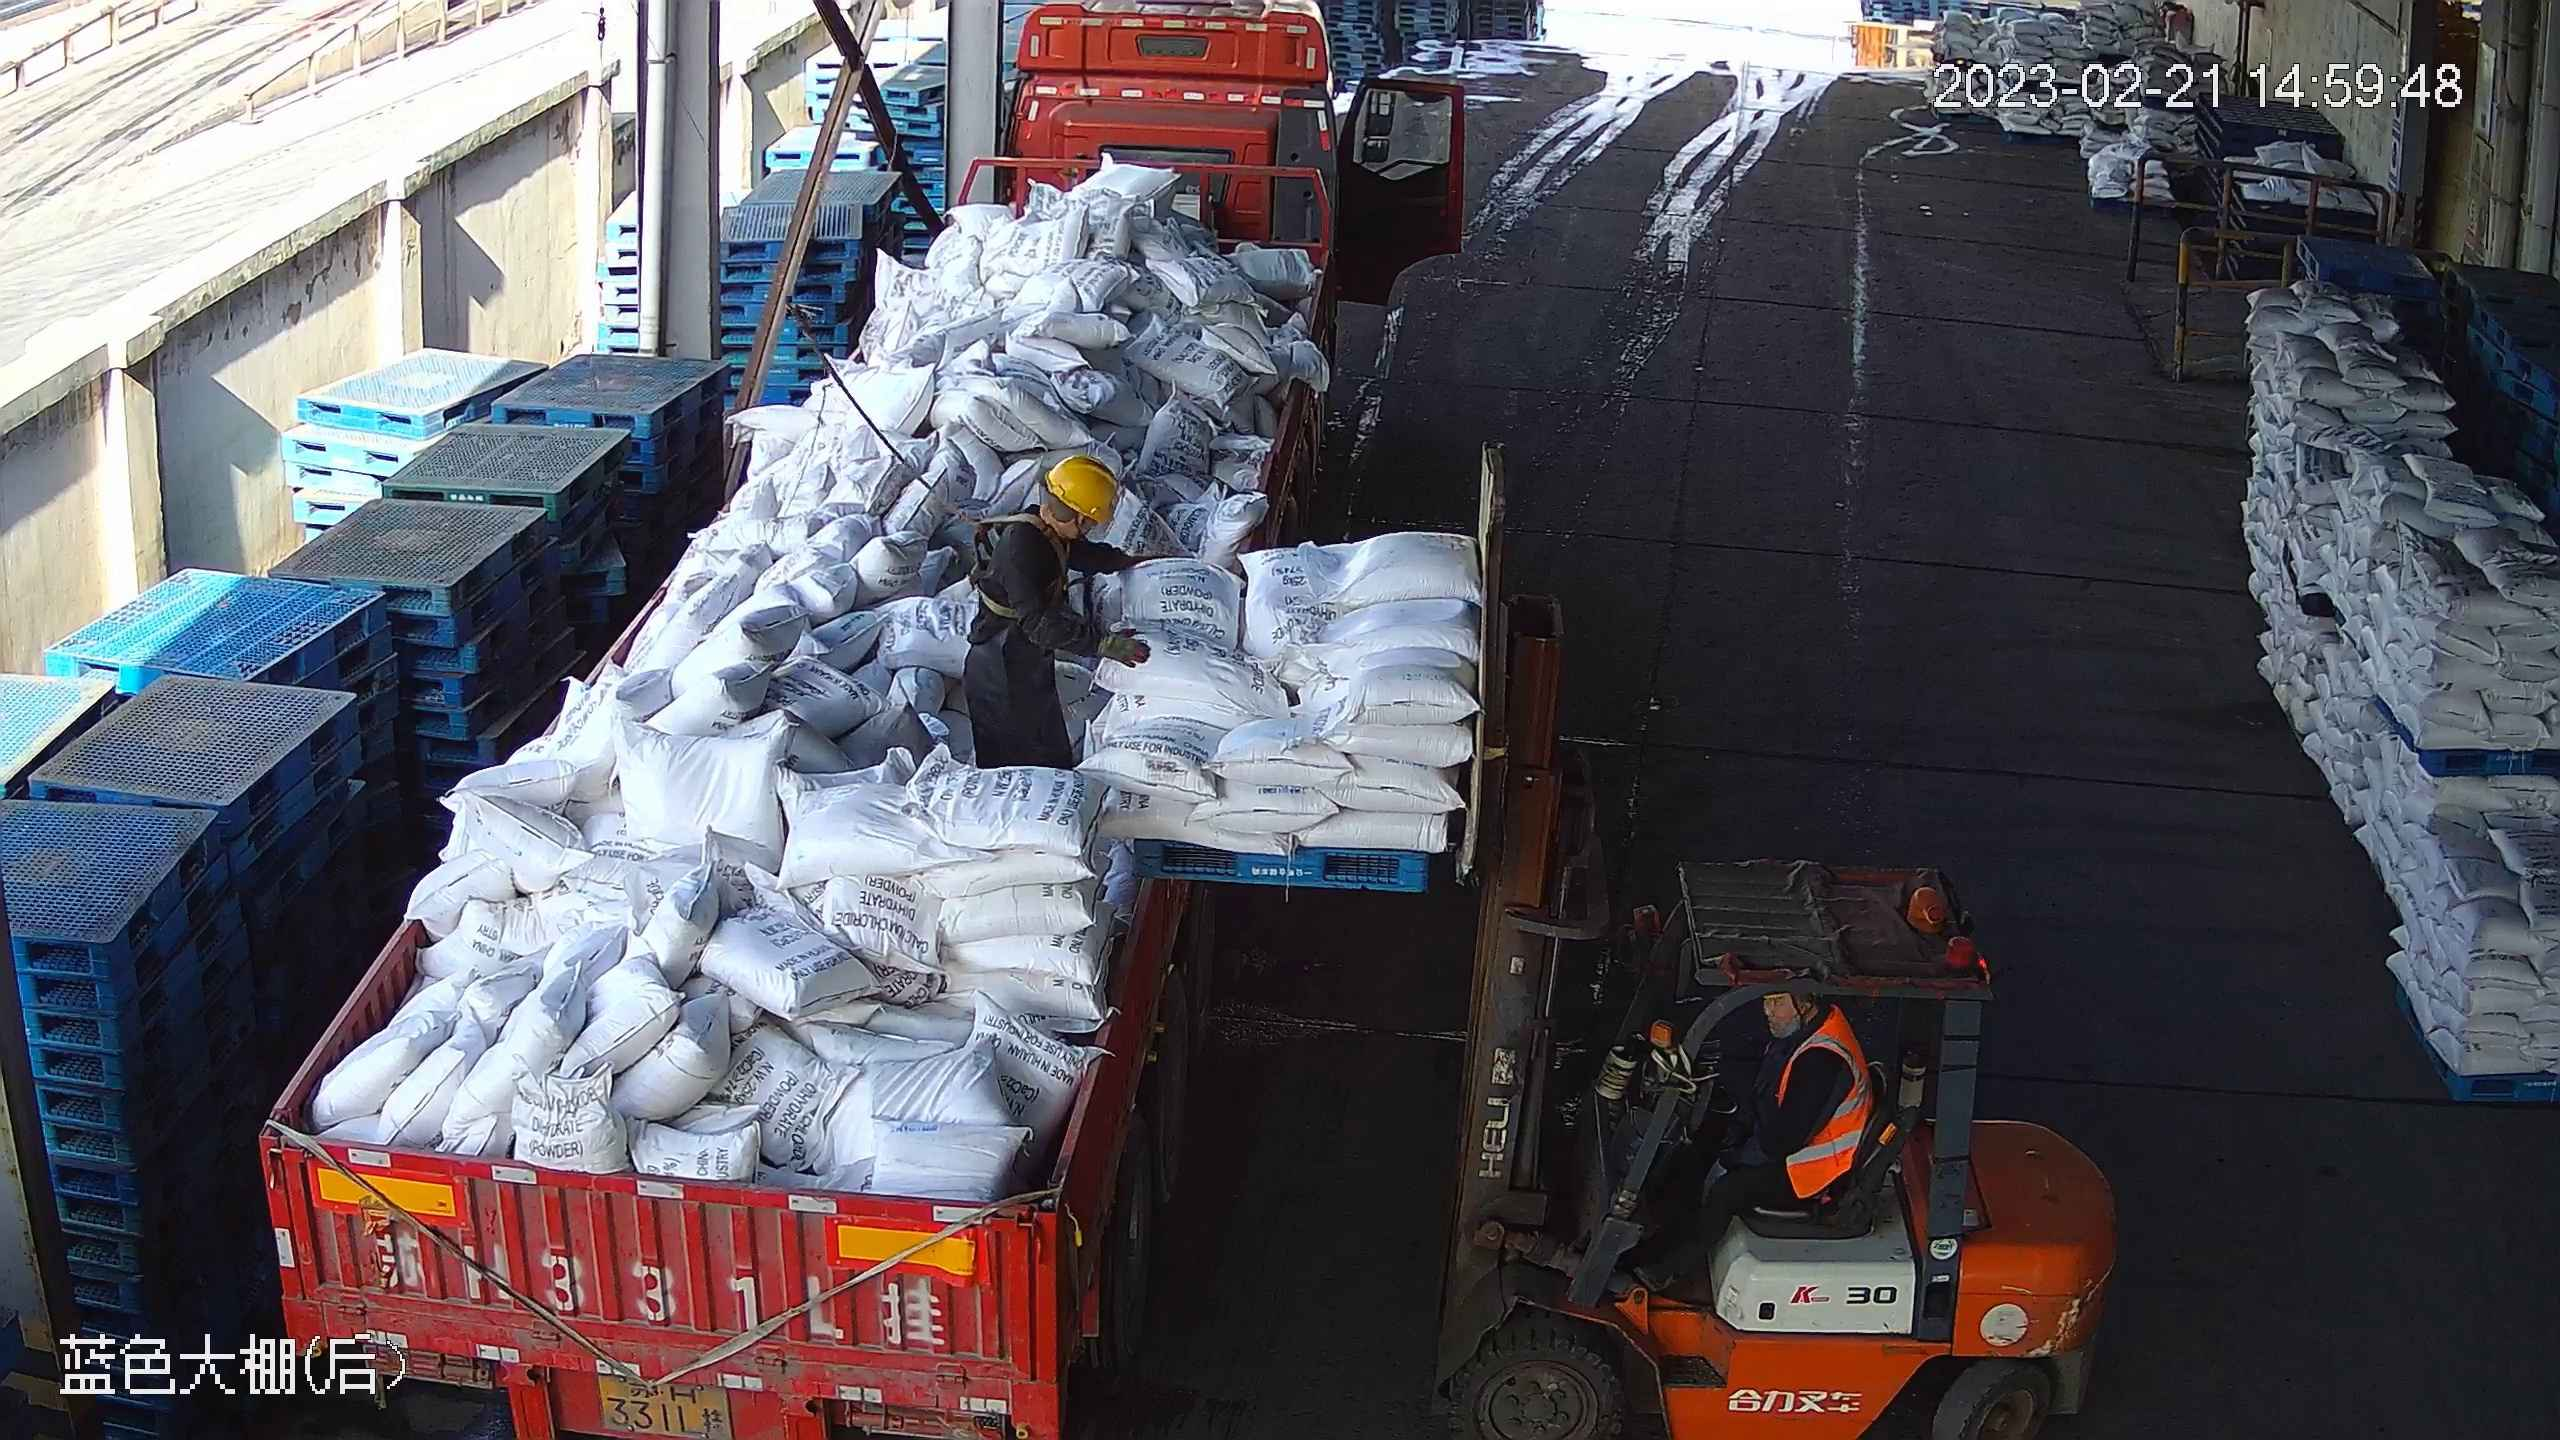belt: (959, 511, 1073, 618)
head: (991, 453, 1119, 575)
helmet: (1045, 454, 1120, 523)
people: (1632, 988, 1874, 1289), (963, 452, 1173, 773)
truck: (254, 1, 1467, 1440)
